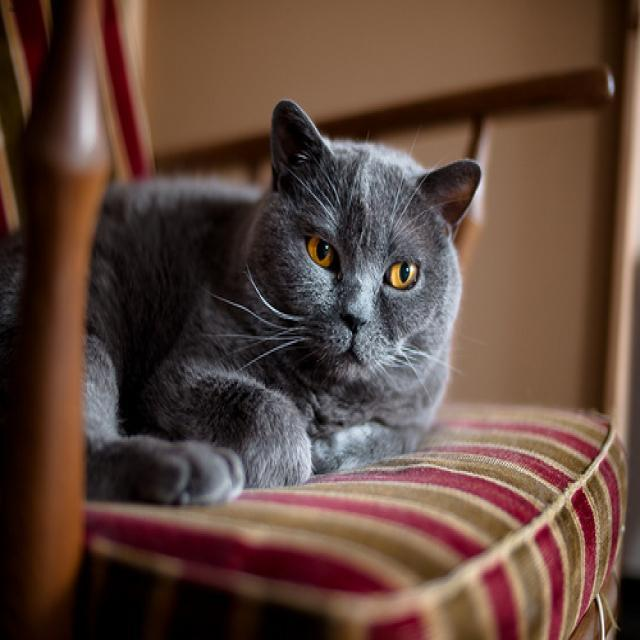British_Shorthair: (259, 99, 479, 379)
